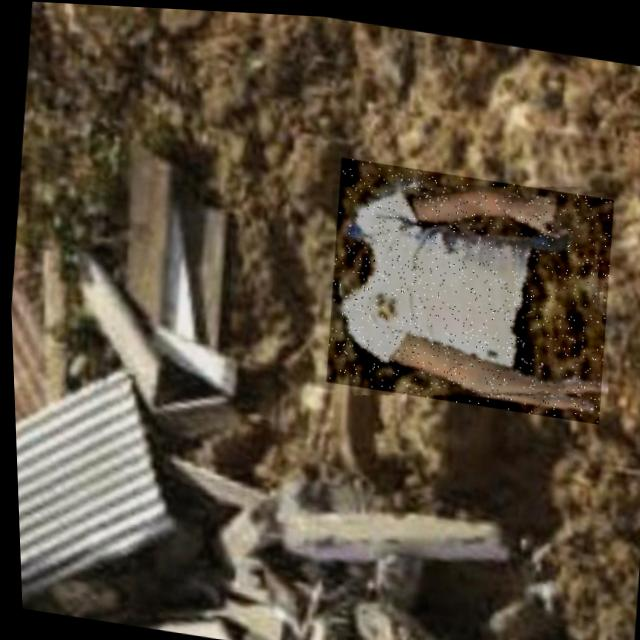Person in Rubble: (317, 152, 619, 418)
